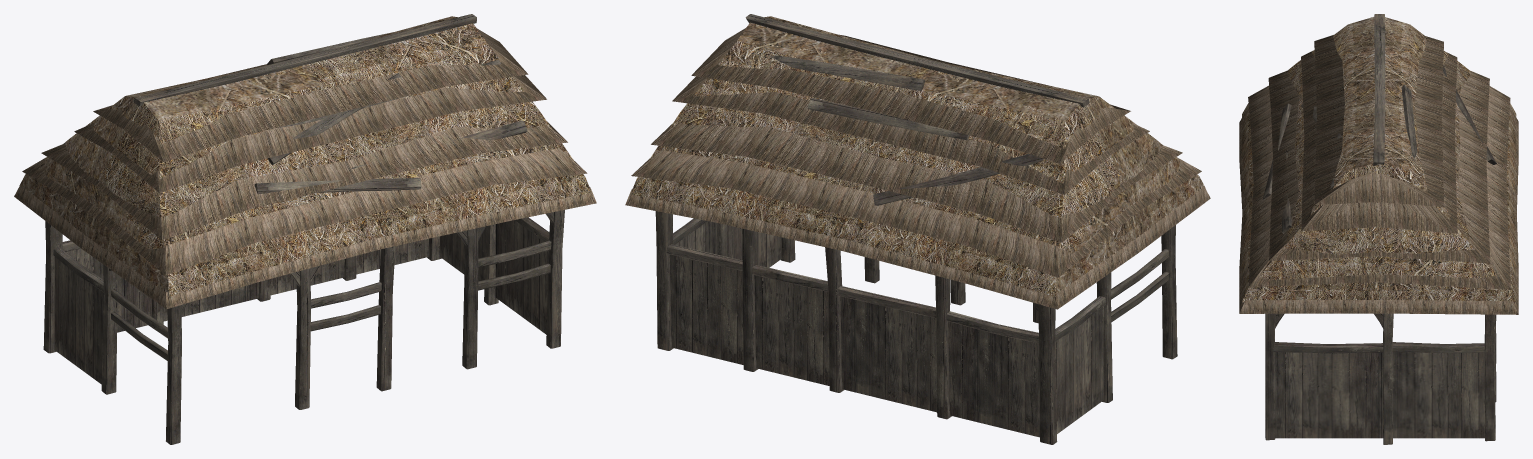
The model's file is stable_2.fbx.
The picture shows the model from 3 angles, left to right: view 1: azimuth 30°, elevation 25°; view 2: azimuth 150°, elevation 25°; view 3: azimuth 270°, elevation 25°; orthographic projection. The views are drawn at different scales.
Visible parts, largest first — view 1: stable2_LOD0; view 2: stable2_LOD0; view 3: stable2_LOD0.
Boxes of the visible parts, x1,y1,x2,y2 form: stable2_LOD0: [14, 14, 596, 444]; stable2_LOD0: [625, 14, 1210, 444]; stable2_LOD0: [1239, 14, 1518, 444].
Size of what is drawn, in the model's own units: 8.76 by 5.58 by 5.22.
